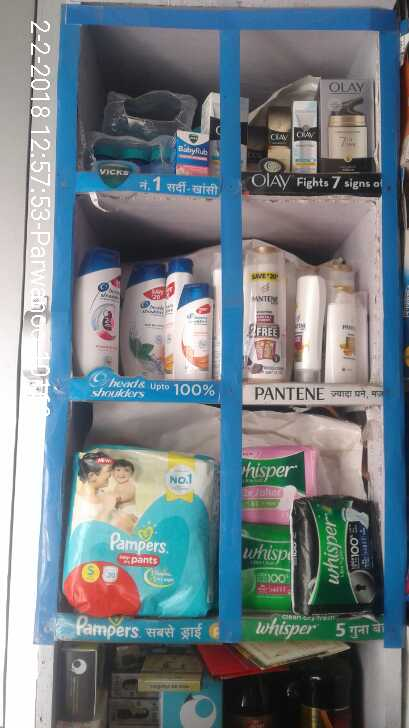vicks: (171, 126, 213, 175)
